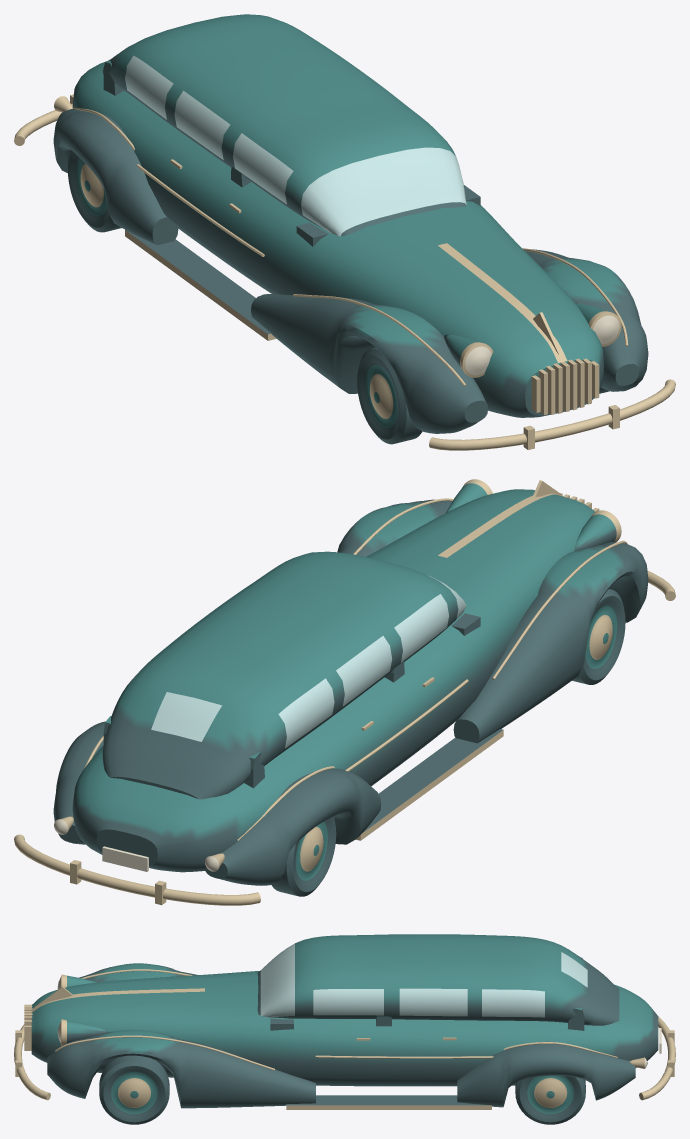
File: KC32__AD_Ext_Car_Limousine.glb
3 views of the same model, one above another, from view 1: azimuth 30°, elevation 25°; view 2: azimuth 150°, elevation 25°; view 3: azimuth 270°, elevation 25° (orthographic). The views are drawn at different scales.
Visible parts, largest first — view 1: KC32_CORPS__AD_Ext_Car_Limousine, KC32_VITRAGE__AD_Ext_Car_Limousine, KC32_BRONZE__AD_Ext_Car_Limousine, KC32_LUMIERE__AD_Ext_Car_Limousine; view 2: KC32_CORPS__AD_Ext_Car_Limousine, KC32_BRONZE__AD_Ext_Car_Limousine, KC32_VITRAGE__AD_Ext_Car_Limousine, KC32_LUMIERE__AD_Ext_Car_Limousine; view 3: KC32_CORPS__AD_Ext_Car_Limousine, KC32_VITRAGE__AD_Ext_Car_Limousine, KC32_BRONZE__AD_Ext_Car_Limousine.
Boxes of the visible parts, x1,y1,x2,y2 form: KC32_CORPS__AD_Ext_Car_Limousine: (53, 14, 648, 444); KC32_VITRAGE__AD_Ext_Car_Limousine: (125, 55, 466, 236); KC32_BRONZE__AD_Ext_Car_Limousine: (14, 94, 675, 450); KC32_LUMIERE__AD_Ext_Car_Limousine: (465, 315, 619, 375); KC32_CORPS__AD_Ext_Car_Limousine: (53, 483, 648, 896); KC32_BRONZE__AD_Ext_Car_Limousine: (14, 479, 675, 905); KC32_VITRAGE__AD_Ext_Car_Limousine: (129, 575, 466, 748); KC32_LUMIERE__AD_Ext_Car_Limousine: (54, 819, 219, 871); KC32_CORPS__AD_Ext_Car_Limousine: (31, 934, 658, 1124); KC32_VITRAGE__AD_Ext_Car_Limousine: (260, 943, 587, 1017); KC32_BRONZE__AD_Ext_Car_Limousine: (14, 969, 675, 1109).
Size of the model in its own units: 2.2 by 1.53 by 6.76.
